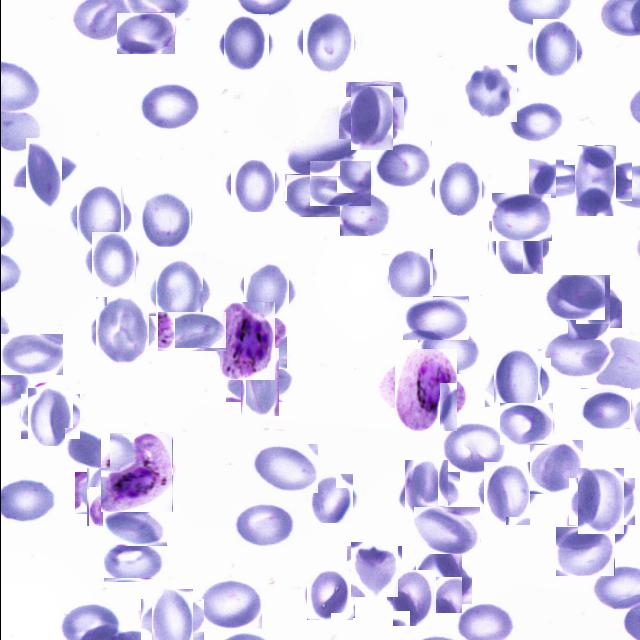difficult: (388, 354, 461, 426)
red blood cell: (91, 300, 152, 362), (442, 422, 506, 476), (488, 354, 546, 412), (252, 443, 318, 493), (299, 15, 356, 72), (413, 506, 480, 554), (150, 264, 207, 320), (572, 473, 628, 530), (199, 579, 261, 630), (566, 152, 622, 208), (417, 328, 482, 376), (544, 331, 610, 378), (411, 552, 466, 608), (398, 466, 453, 522), (462, 66, 518, 121), (136, 191, 191, 246), (478, 466, 534, 520), (72, 190, 128, 244), (136, 82, 198, 130), (15, 146, 70, 200), (565, 503, 628, 550), (555, 526, 614, 576), (80, 466, 134, 520), (232, 356, 286, 410), (561, 280, 615, 334), (402, 296, 468, 340), (345, 82, 408, 128), (308, 160, 371, 206), (491, 193, 551, 241), (529, 440, 582, 494), (344, 91, 397, 145), (492, 218, 544, 272), (157, 312, 226, 352), (432, 162, 484, 214), (239, 264, 291, 316), (528, 24, 580, 76), (24, 390, 76, 442), (544, 275, 604, 320), (373, 141, 431, 187), (87, 234, 138, 286), (348, 544, 399, 596), (0, 333, 63, 375), (220, 16, 270, 68), (102, 541, 164, 582), (386, 252, 436, 302), (389, 573, 439, 623), (284, 174, 342, 217), (116, 12, 175, 54), (234, 504, 293, 546), (146, 593, 198, 640), (528, 158, 587, 199), (509, 101, 564, 144), (227, 162, 276, 210), (305, 571, 353, 619), (102, 510, 166, 546), (305, 475, 353, 522), (499, 403, 552, 445), (339, 192, 387, 238), (580, 388, 630, 429), (64, 428, 109, 468)
schizont: (100, 432, 172, 512), (213, 308, 280, 374)
